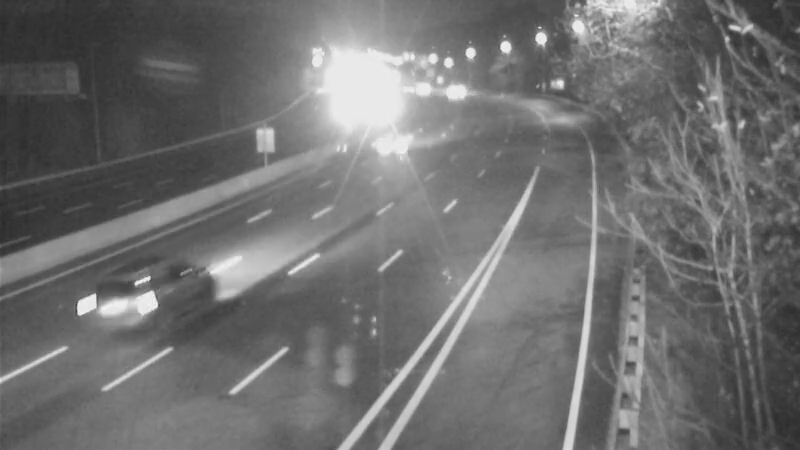vehicle: (65, 250, 175, 360), (377, 112, 427, 162)
